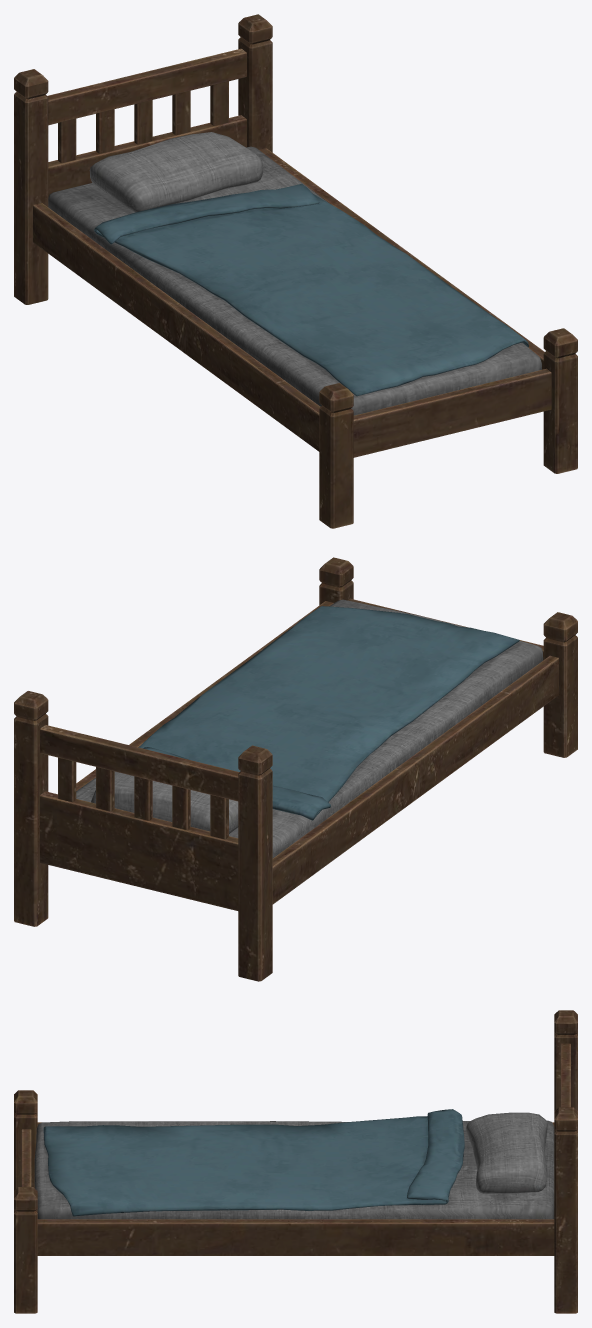
File: bed-old.glb
3 views of the same model, one above another, from view 1: azimuth 30°, elevation 25°; view 2: azimuth 150°, elevation 25°; view 3: azimuth 270°, elevation 25° (orthographic). The views are drawn at different scales.
Parts seen in each view (by area): view 1: Bed; view 2: Bed; view 3: Bed.
Part boxes in pixels (x1,y1,x2,y2): Bed: [14, 14, 577, 528]; Bed: [14, 557, 577, 981]; Bed: [14, 1010, 577, 1313].
Bounding box in the file's own units: 0.7864 × 0.6818 × 1.76.
1 material, 1 textured.
